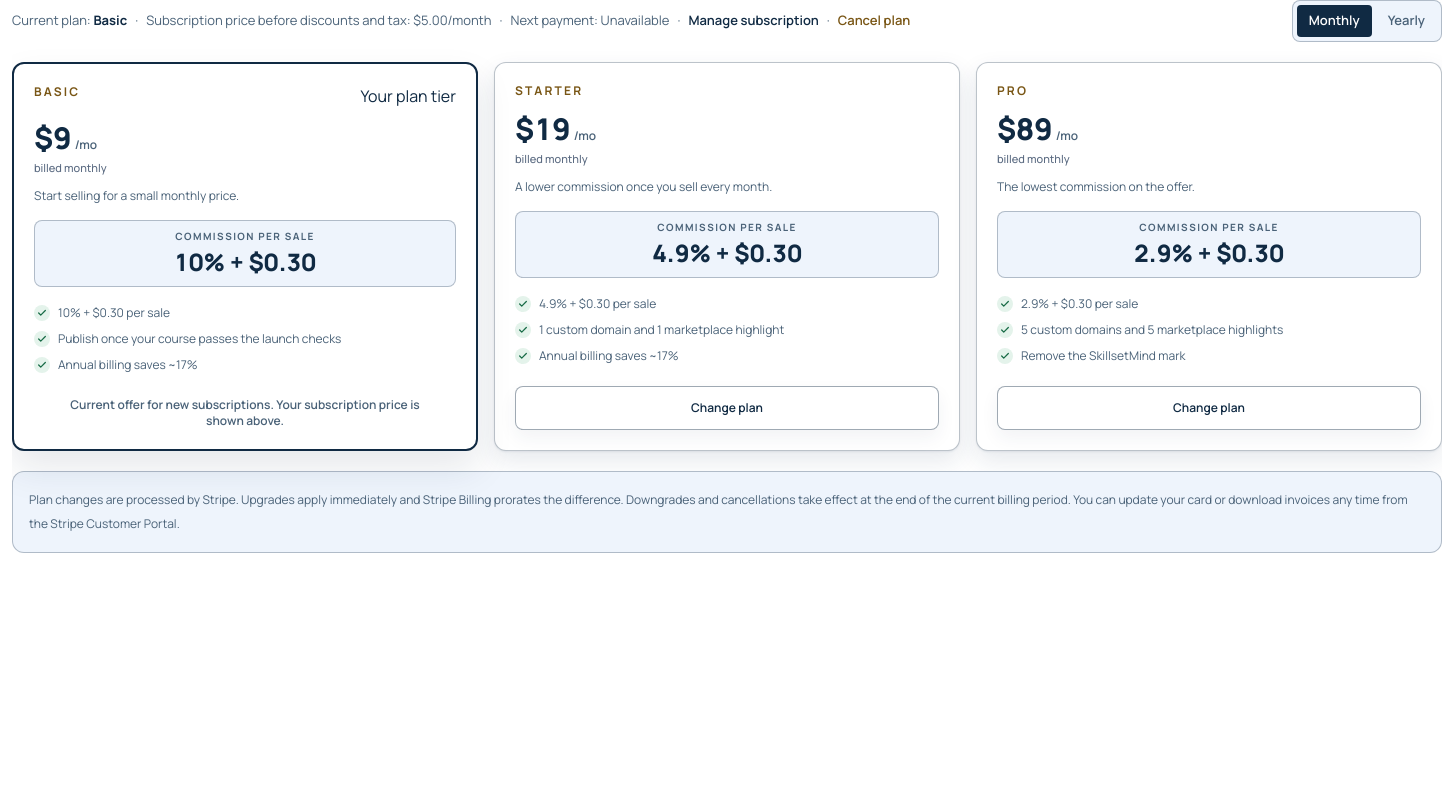
PlansPanel com os 2 planos e o teste gratis › separates legacy tariff 500/monthly from current offers (cancelled false)
This screenshot has width=1452, height=810.
Expected: the element that starts with "Basic" shows "Current offer for new subscriptions.", 70,396 -> 420,429
Expected: the text "Next payment: Unavailable" does not show "$9", 510,11 -> 670,30
Click the radio button labelled "Yearly". click: click(1406, 21)
box: 1376,5 -> 1437,36
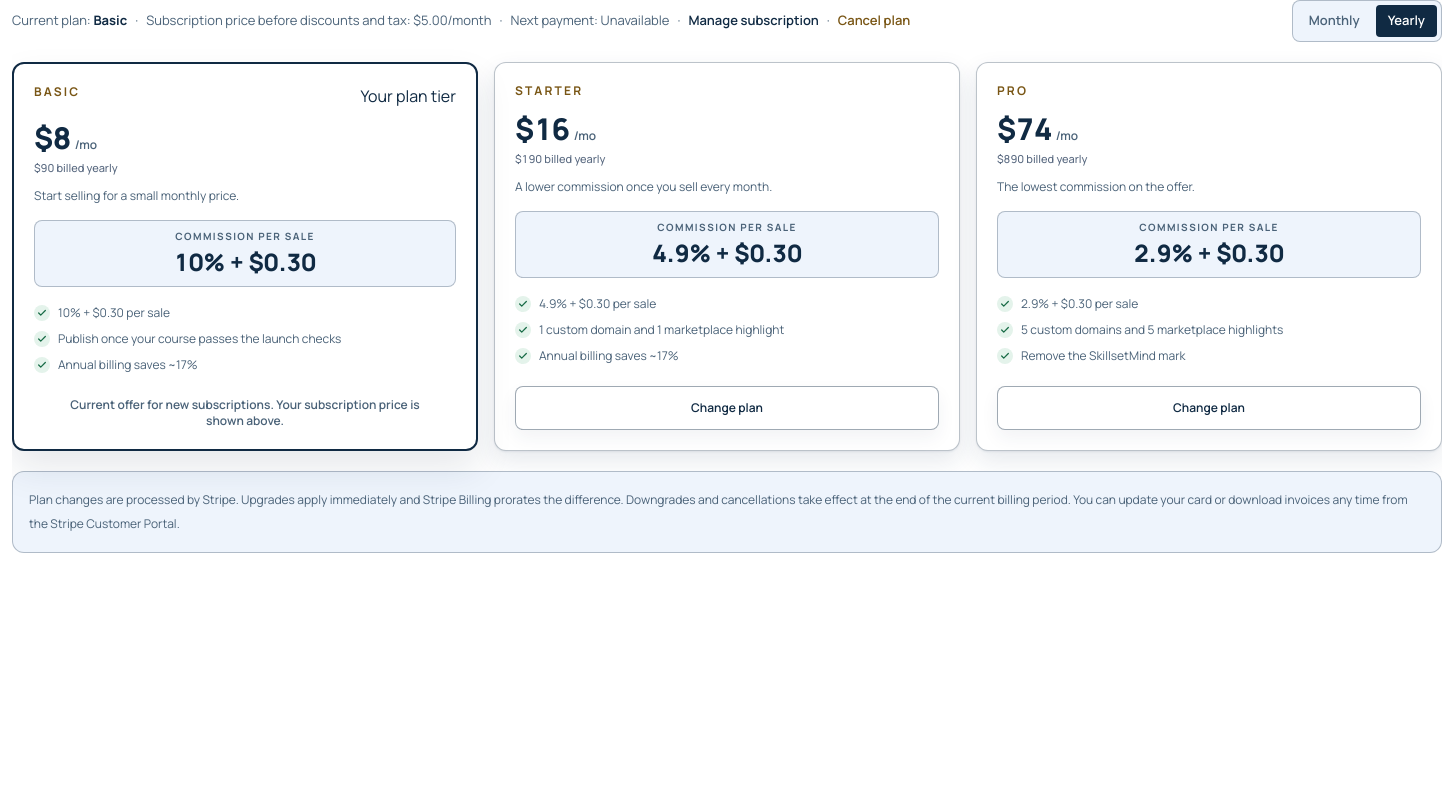
Now the element that starts with "Basic" shows "$90", box 34,160 -> 118,174
